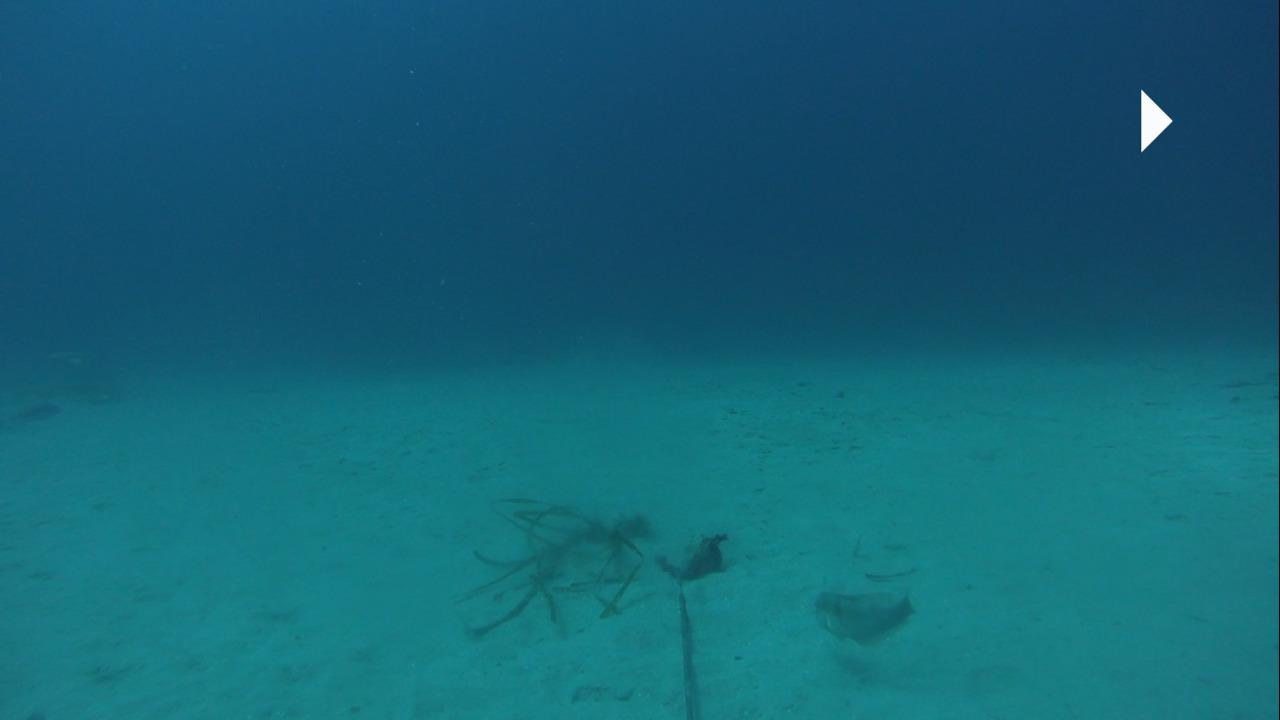raor: (806, 575, 925, 648)
